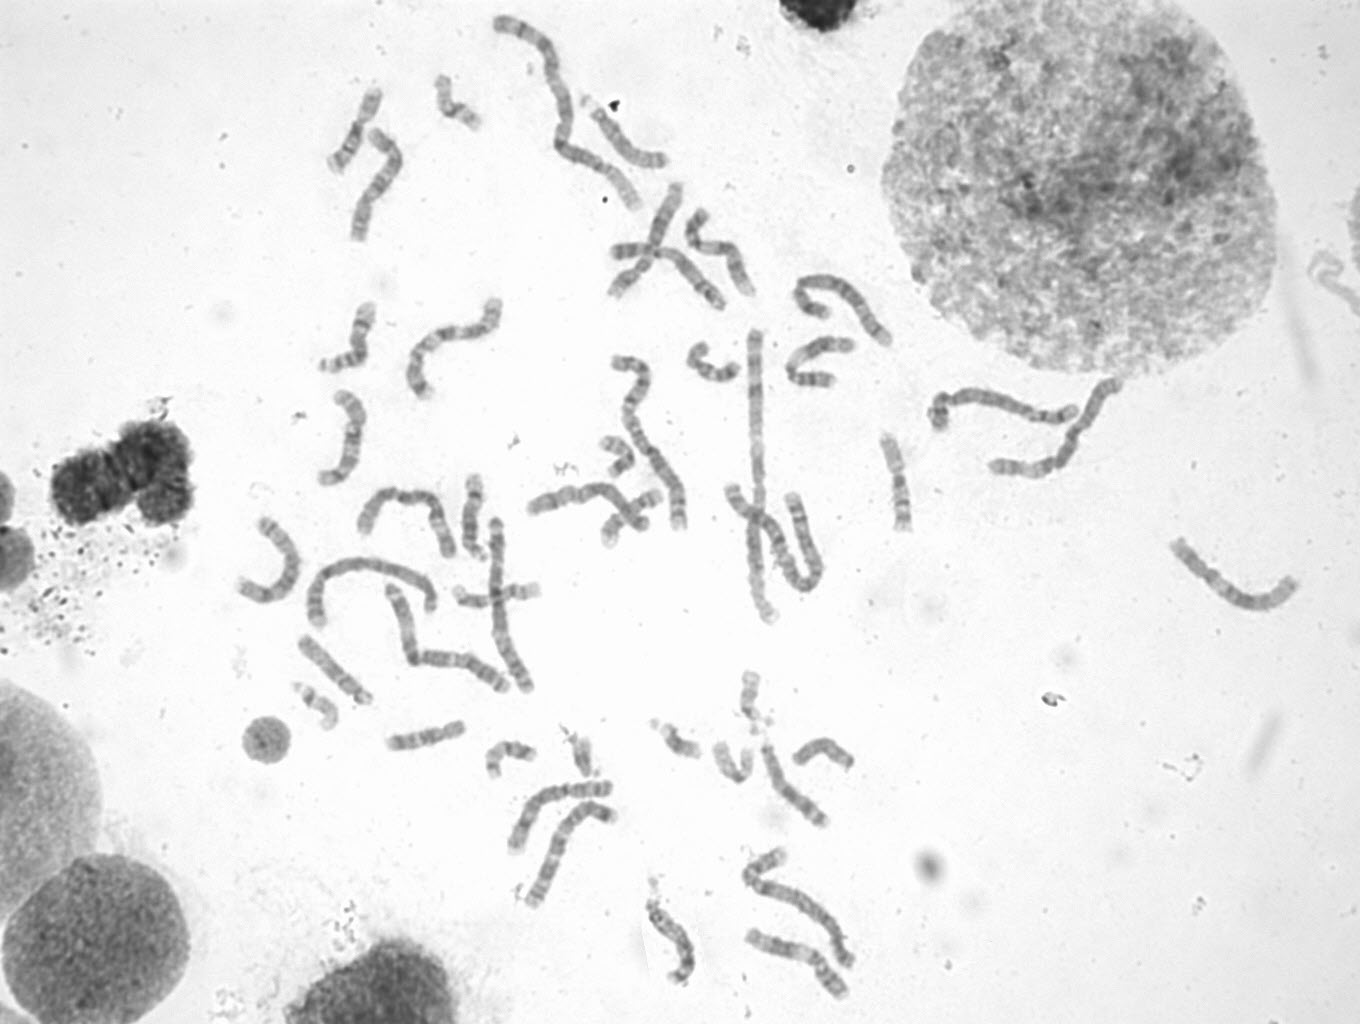chromosomes: (485, 12, 653, 223), (980, 369, 1132, 492), (382, 580, 516, 700), (606, 355, 695, 538), (736, 839, 858, 969), (505, 803, 619, 918), (401, 293, 512, 410), (743, 324, 785, 631), (722, 479, 829, 596), (1166, 532, 1298, 620), (479, 515, 540, 696), (605, 179, 689, 307), (568, 82, 676, 177), (497, 777, 620, 859), (301, 558, 443, 629), (928, 382, 1088, 444), (606, 239, 729, 317), (352, 479, 463, 561), (794, 271, 898, 357), (348, 123, 411, 255), (684, 201, 762, 303), (227, 513, 303, 612), (742, 930, 851, 999), (323, 85, 395, 184), (297, 628, 381, 709), (761, 740, 834, 833), (522, 484, 654, 534), (314, 385, 374, 492), (315, 290, 382, 379), (638, 892, 698, 987), (587, 487, 665, 557), (873, 425, 919, 539), (424, 69, 493, 134), (782, 335, 862, 388), (458, 465, 492, 570), (377, 719, 471, 754), (450, 577, 541, 610), (679, 339, 743, 386), (738, 665, 782, 733), (792, 736, 867, 776), (291, 681, 342, 736), (645, 715, 704, 760), (708, 737, 756, 788), (481, 739, 539, 780), (595, 433, 640, 482), (562, 731, 603, 780)
